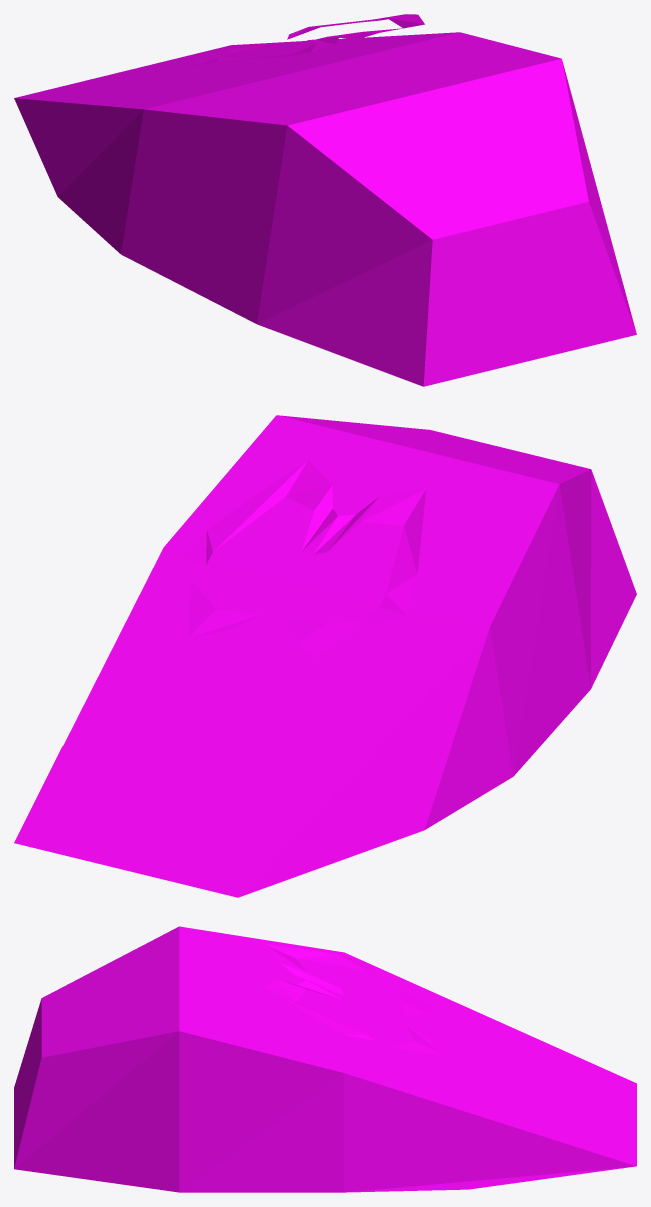
Rendered from zamorakstone.obj.
The picture shows the model from 3 angles, top to bottom: view 1: azimuth 30°, elevation 25°; view 2: azimuth 150°, elevation 25°; view 3: azimuth 270°, elevation 25°; orthographic projection. The views are drawn at different scales.
Visible parts, largest first — view 1: zamorakstone_back; view 2: zamorakstone_back; view 3: zamorakstone_back.
Boxes of the visible parts, x1=… form: zamorakstone_back: x1=14, y1=14, x2=636, y2=386; zamorakstone_back: x1=14, y1=415, x2=636, y2=897; zamorakstone_back: x1=14, y1=926, x2=636, y2=1192.
Size of the model in its own units: 0.96 by 0.52 by 1.81.
